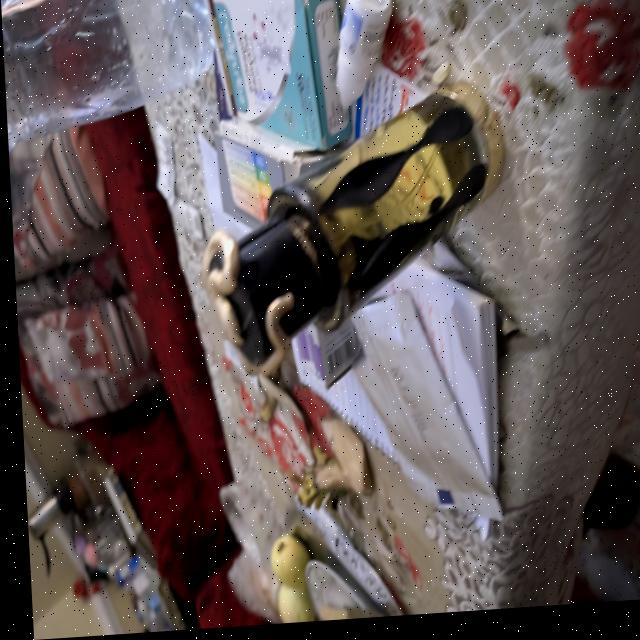Teriaq-Intense: (191, 87, 505, 385)
